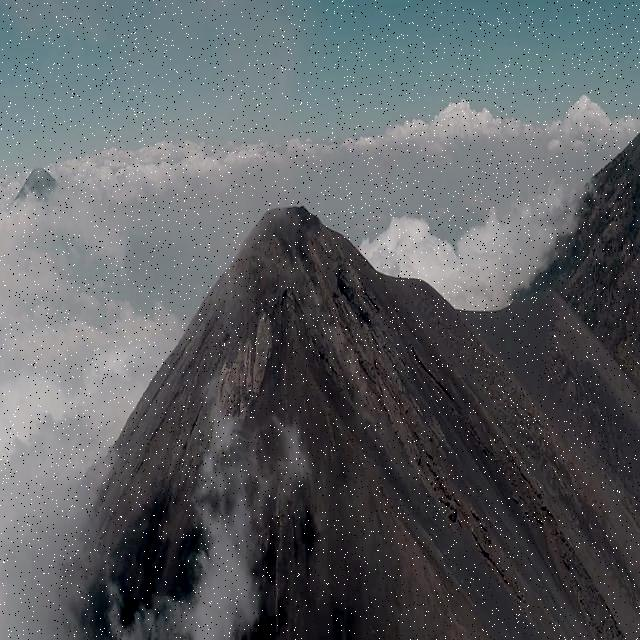Summit: (100, 186, 472, 468)
